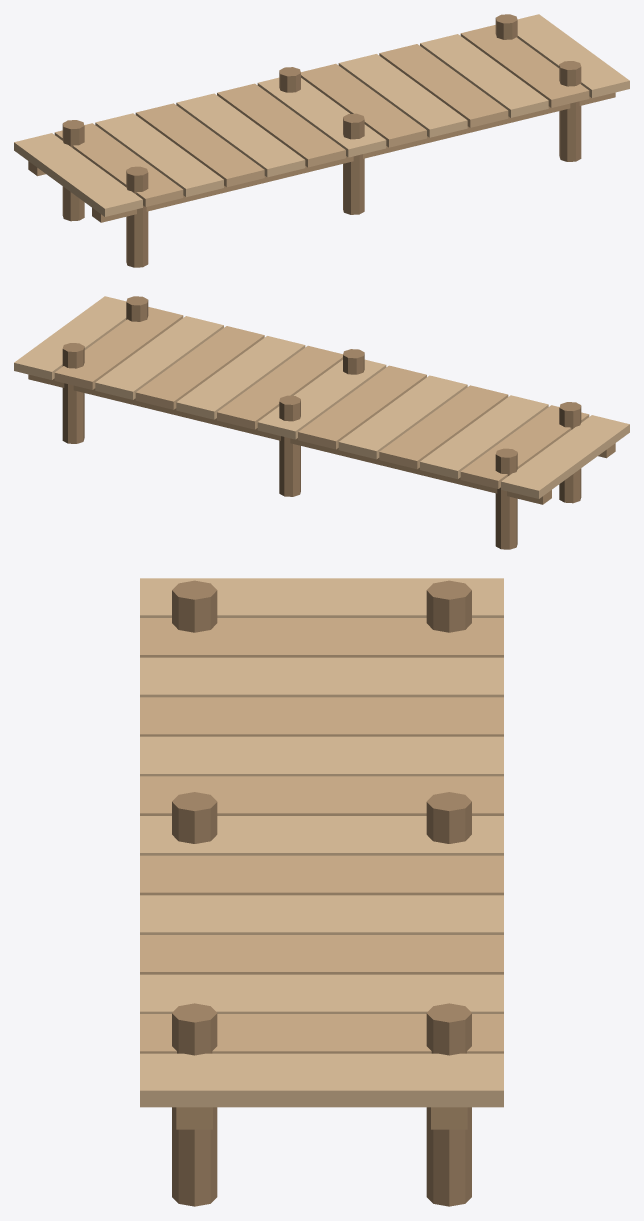
The model's file is th3_steg.glb.
The picture shows the model from 3 angles, top to bottom: view 1: azimuth 30°, elevation 25°; view 2: azimuth 150°, elevation 25°; view 3: azimuth 270°, elevation 25°; orthographic projection. The views are drawn at different scales.
Visible parts, largest first — view 1: steg; view 2: steg; view 3: steg.
Boxes of the visible parts, bbox=[...] form: steg: bbox=[14, 14, 629, 267]; steg: bbox=[14, 296, 629, 549]; steg: bbox=[140, 578, 503, 1206].
Size of the model in its own units: 4 by 0.67 by 1.2.
